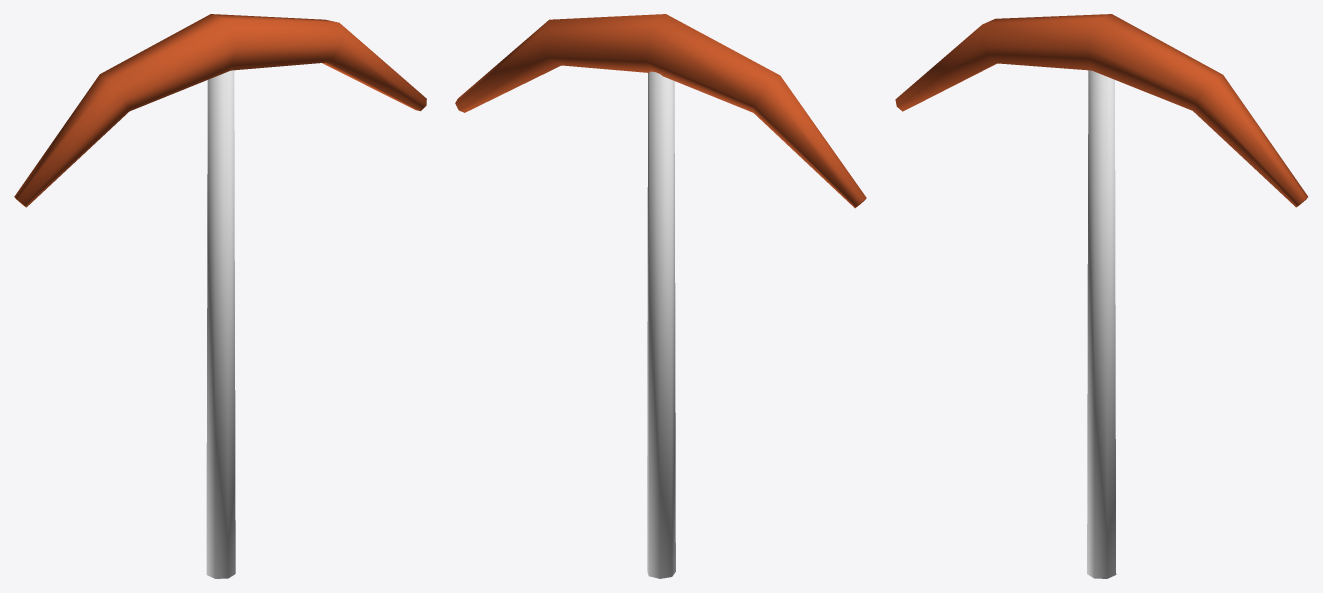
Rendered from cinder_pickaxe.glb.
3 views of the same model, side by side, from view 1: azimuth 30°, elevation 25°; view 2: azimuth 150°, elevation 25°; view 3: azimuth 330°, elevation 25° (orthographic).
Visible parts, largest first — view 1: cinder_pickaxe_v0; view 2: cinder_pickaxe_v0; view 3: cinder_pickaxe_v0.
Part boxes in pixels (<box>): cinder_pickaxe_v0: <box>14,14,426,578</box>; cinder_pickaxe_v0: <box>455,14,866,578</box>; cinder_pickaxe_v0: <box>895,14,1307,578</box>.
Size of the model in its own units: 0.6949 by 0.9026 by 0.0883.
